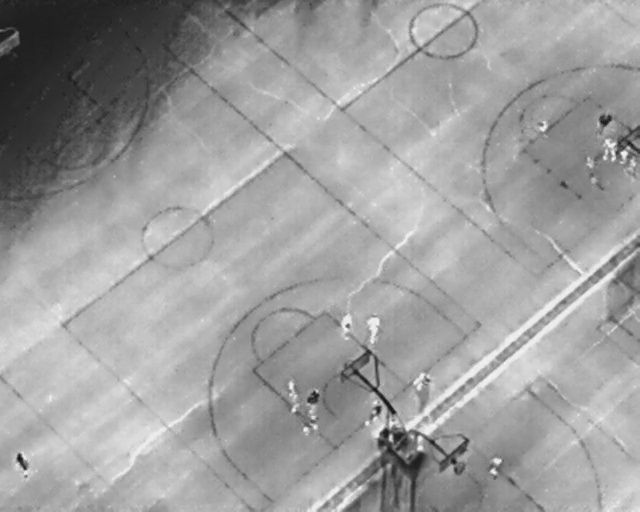Person: (9, 448, 31, 479), (590, 173, 614, 199), (593, 106, 613, 136), (414, 372, 432, 399), (367, 312, 381, 345), (602, 137, 616, 161), (490, 455, 502, 480), (307, 387, 319, 412), (628, 154, 639, 180), (342, 312, 351, 339), (288, 390, 298, 412), (582, 156, 595, 170), (538, 120, 549, 136), (622, 141, 629, 165)
